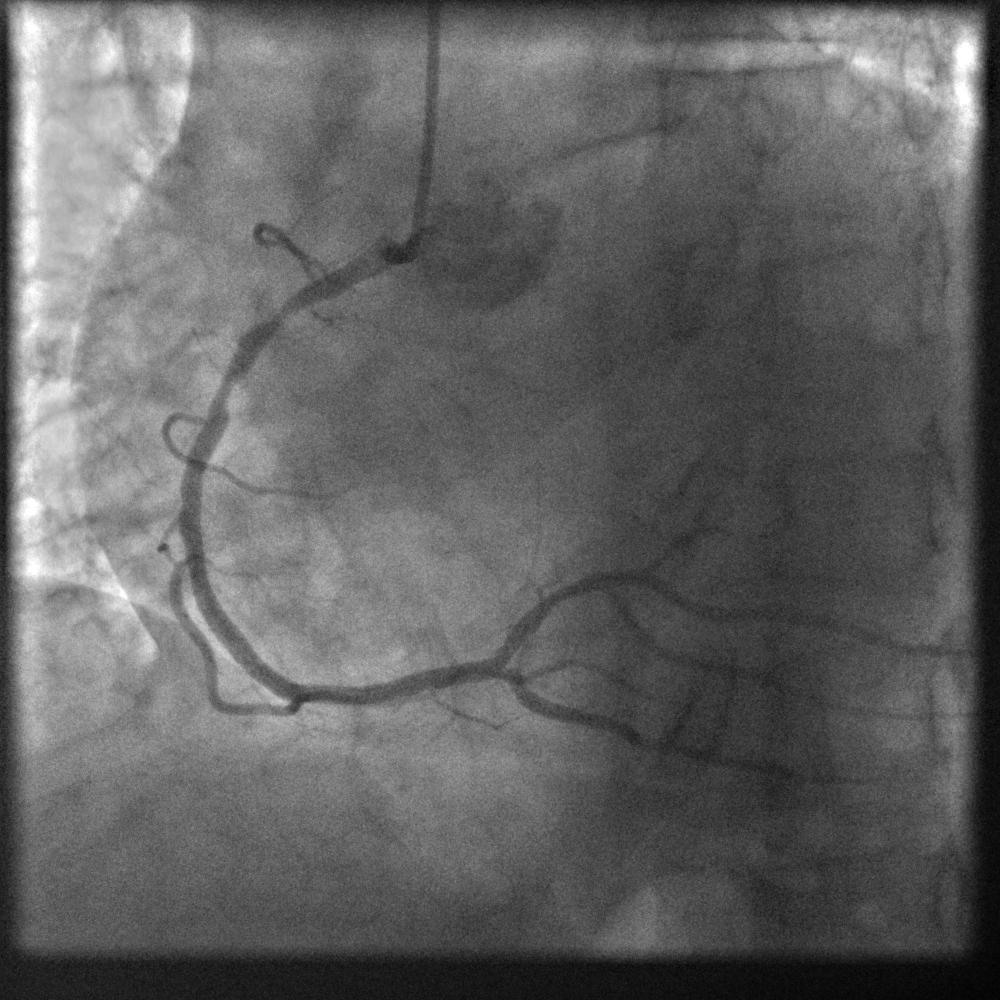Stenosis: (248, 293, 309, 337)
